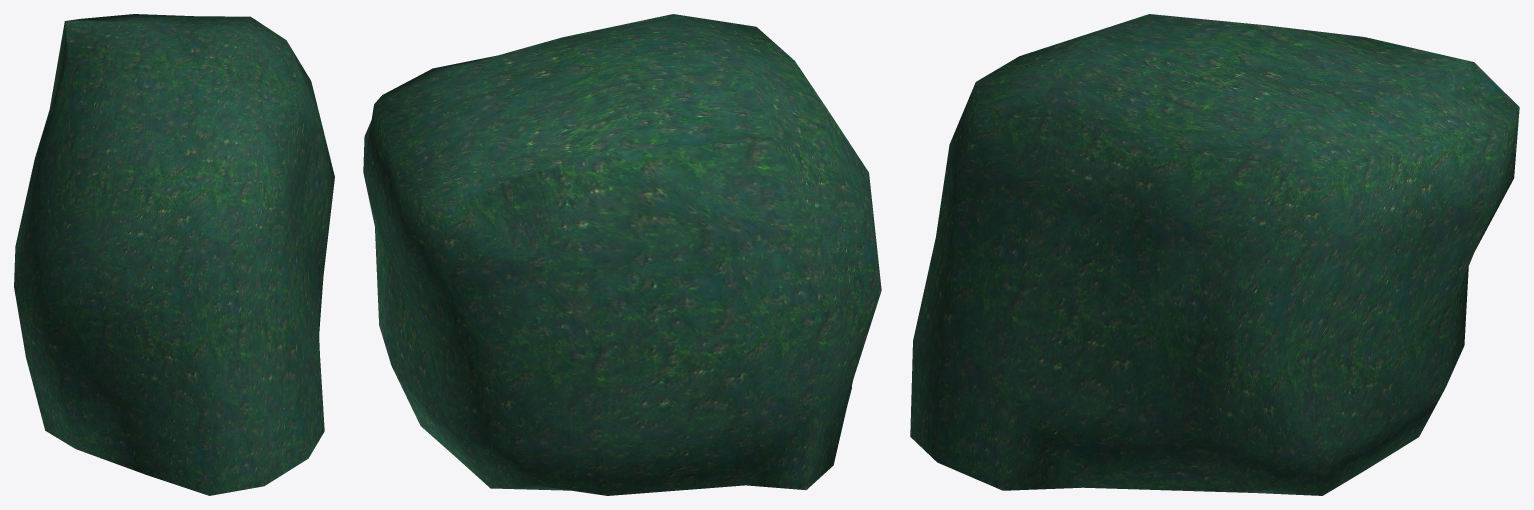
The model's file is MIRKWOOD_MIRK_PLAYSURFACE556.fbx.
3 views of the same model, side by side, from view 1: azimuth 30°, elevation 25°; view 2: azimuth 150°, elevation 25°; view 3: azimuth 270°, elevation 25° (orthographic). The views are drawn at different scales.
Parts seen in each view (by area): view 1: MIRKWOOD_MIRK_PLAYSURFACE556; view 2: MIRKWOOD_MIRK_PLAYSURFACE556; view 3: MIRKWOOD_MIRK_PLAYSURFACE556.
Boxes of the visible parts, bbox=[...] form: MIRKWOOD_MIRK_PLAYSURFACE556: bbox=[14, 14, 334, 495]; MIRKWOOD_MIRK_PLAYSURFACE556: bbox=[363, 14, 881, 495]; MIRKWOOD_MIRK_PLAYSURFACE556: bbox=[910, 14, 1519, 495].
Size of the model in its own units: 60025 by 53572 by 70509.
1 material, 1 textured.
